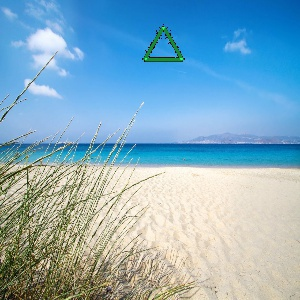triangle: (140, 23, 187, 66)
